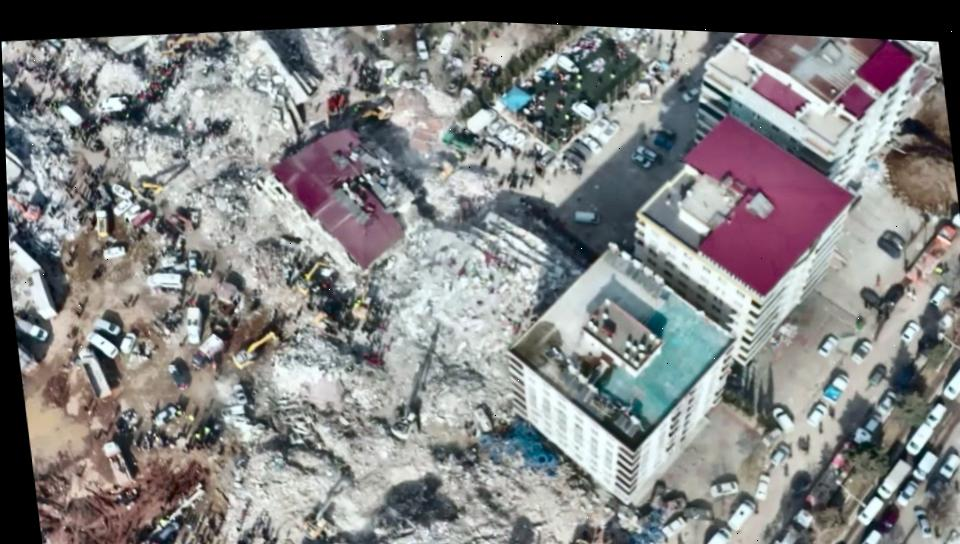kapali: (118, 174, 611, 544)
